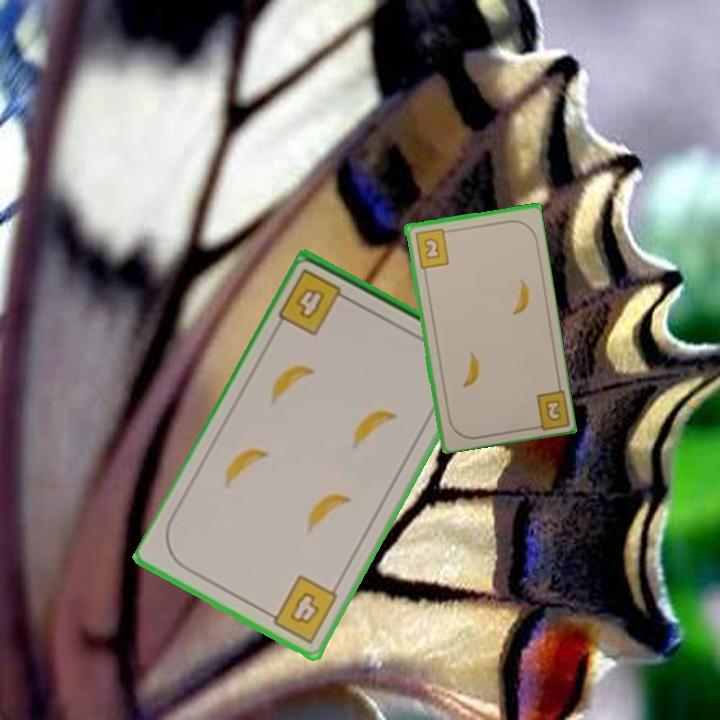2b: (526, 385, 570, 432), (411, 225, 453, 271)
4b: (262, 571, 341, 647), (275, 265, 356, 339)
